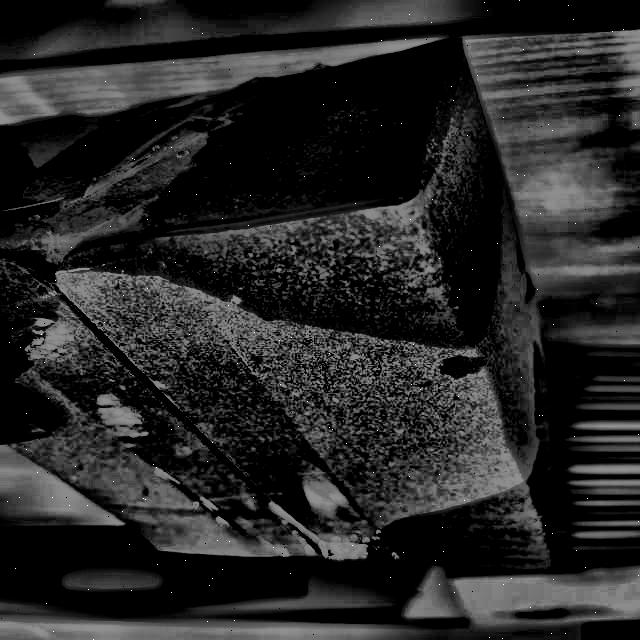box: (0, 31, 558, 577)
wet: (74, 65, 561, 332), (354, 413, 618, 580)
